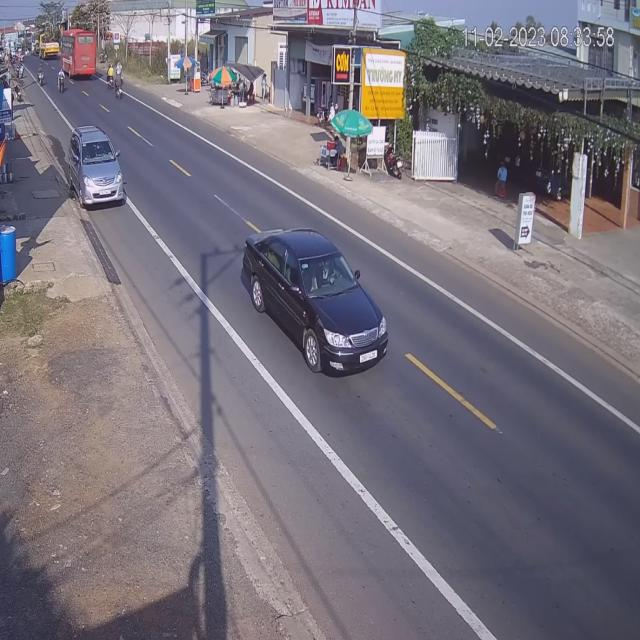bus: (60, 31, 96, 80)
car: (242, 232, 389, 380), (66, 129, 127, 213)
motorbike: (116, 63, 126, 99), (59, 66, 68, 92), (107, 61, 114, 90)
